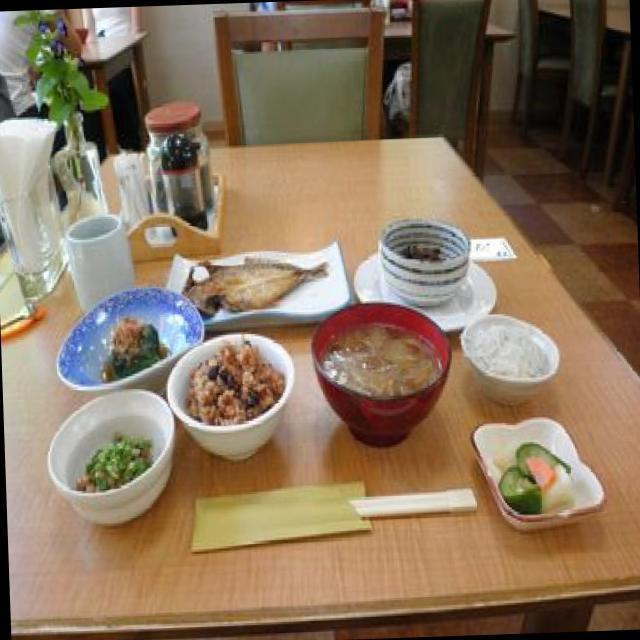Rice: (218, 156, 256, 190)
